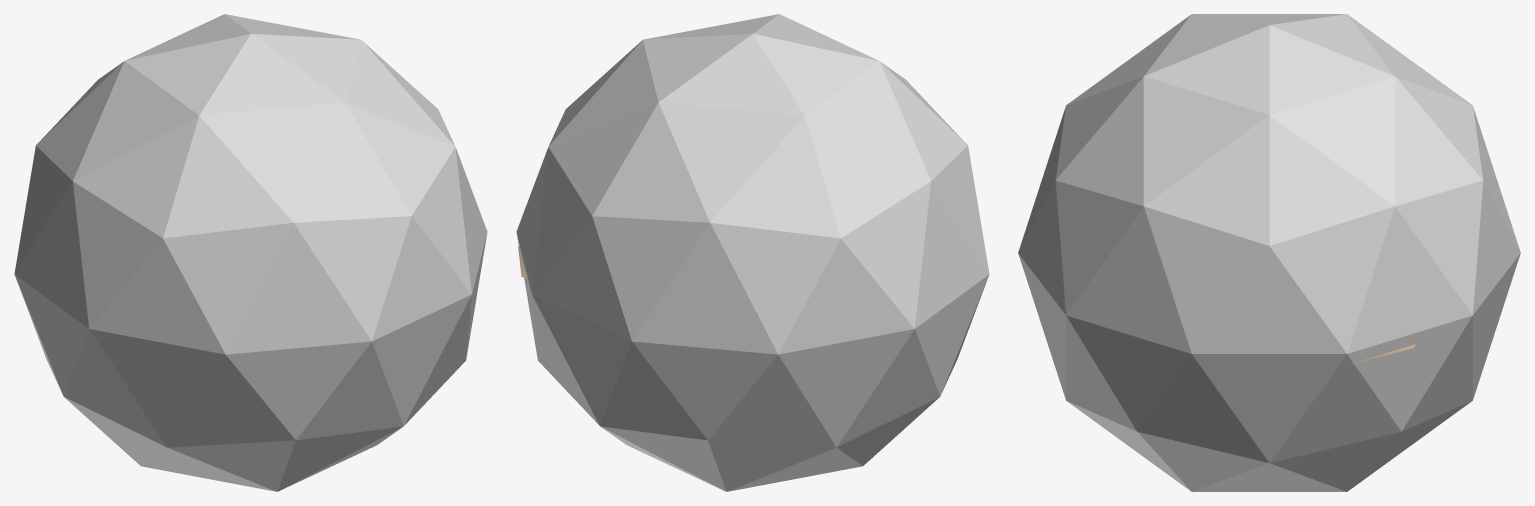
The model's file is island1.fbx.
3 views of the same model, side by side, from view 1: azimuth 30°, elevation 25°; view 2: azimuth 150°, elevation 25°; view 3: azimuth 270°, elevation 25° (orthographic). The views are drawn at different scales.
Parts seen in each view (by area): view 1: Icosphere; view 2: Icosphere; view 3: Icosphere.
Part boxes in pixels (<box>): Icosphere: <box>14,14,487,491</box>; Icosphere: <box>516,14,989,491</box>; Icosphere: <box>1018,14,1520,491</box>.
Size of what is drawn, in the model's own units: 190 by 200 by 200.
